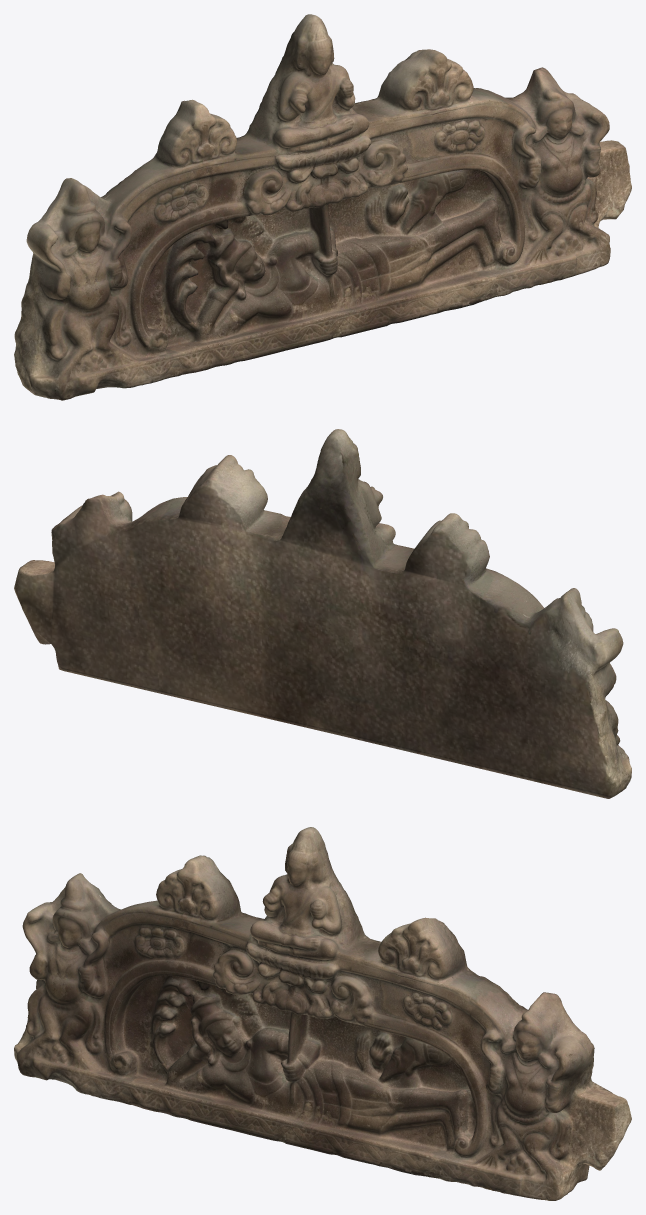
The model's file is 2_phudieudansinhbrahma_final.glb.
3 renders of one model, top to bottom at view 1: azimuth 30°, elevation 25°; view 2: azimuth 150°, elevation 25°; view 3: azimuth 330°, elevation 25°, orthographic. The views are drawn at different scales.
Size of the model in its own units: 2.37 by 1.13 by 0.2908.
1 material, 1 textured.
